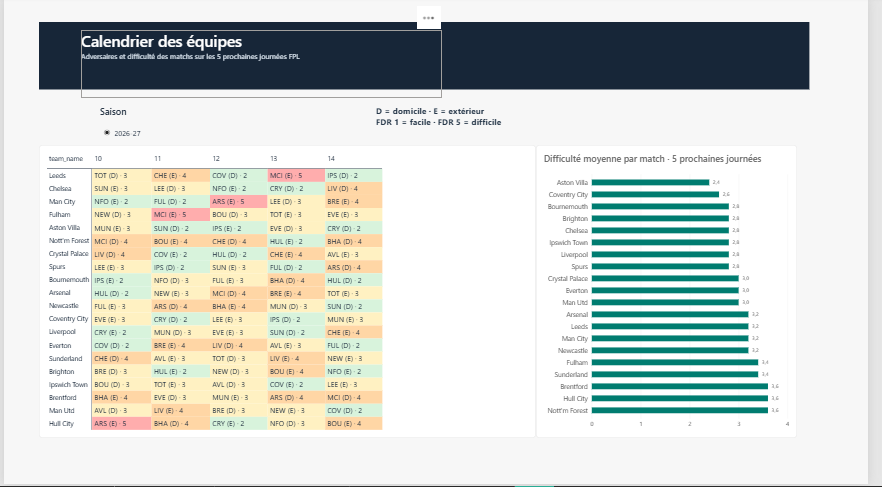

The page's visual inventory and layout, read from the dashboard file:
{"tool":"powerbi","page":{"name":"Calendrier des équipes","canvas":[1920,1080],"ordinal":2},"visuals":[{"type":"pivotTable","fields":{"Columns":["dim_event.event_id"],"Rows":["dim_team.team_name"],"Values":["fact_team_fixture.Adversaires calendrier"]},"box":[77.8,326.7,1104.4,651.1],"z":1000},{"type":"textbox","box":[826.7,237.8,373.3,73.3],"z":1001},{"type":"clusteredBarChart","title":"Difficulté moyenne par match · 5 prochaines journées","fields":{"Category":["dim_team.team_name"],"Y":["fact_team_fixture.FDR moyen"]},"box":[1182.2,326.7,580,651.1],"z":1004},{"type":"shape","box":[78,54,1712,150],"z":1005},{"type":"textbox","title":"Calendrier des équipes","box":[172,72,802,150],"z":1006},{"type":"slicer","title":"Saison","fields":{"Values":["dim_event.season"]},"box":[213.3,237.8,361.1,138.9],"z":1007}]}

Visuals, with their boxes in screenshot pixels (x1, y1, x2, y2), scaled from the page's 1920x1080 canvas onto the 882x487 screenshot:
pivotTable - dim_event.event_id x dim_team.team_name: 36, 147, 543, 441
textbox: 380, 107, 551, 140
"Difficulté moyenne par match · 5 prochaines journées" clusteredBarChart: 543, 147, 810, 441
shape: 36, 24, 822, 92
"Calendrier des équipes" textbox: 79, 32, 447, 100
"Saison" slicer: 98, 107, 264, 170
